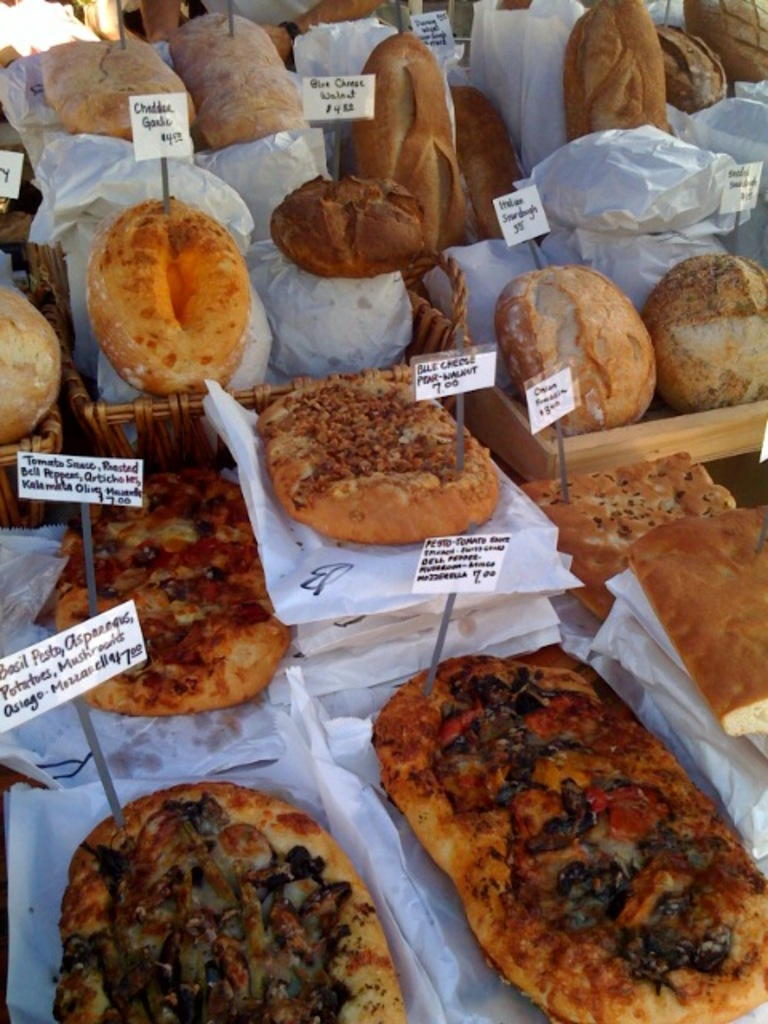Pizza: (363, 647, 766, 1022), (49, 774, 408, 1022), (235, 371, 505, 547), (51, 521, 292, 711), (60, 467, 248, 547)
